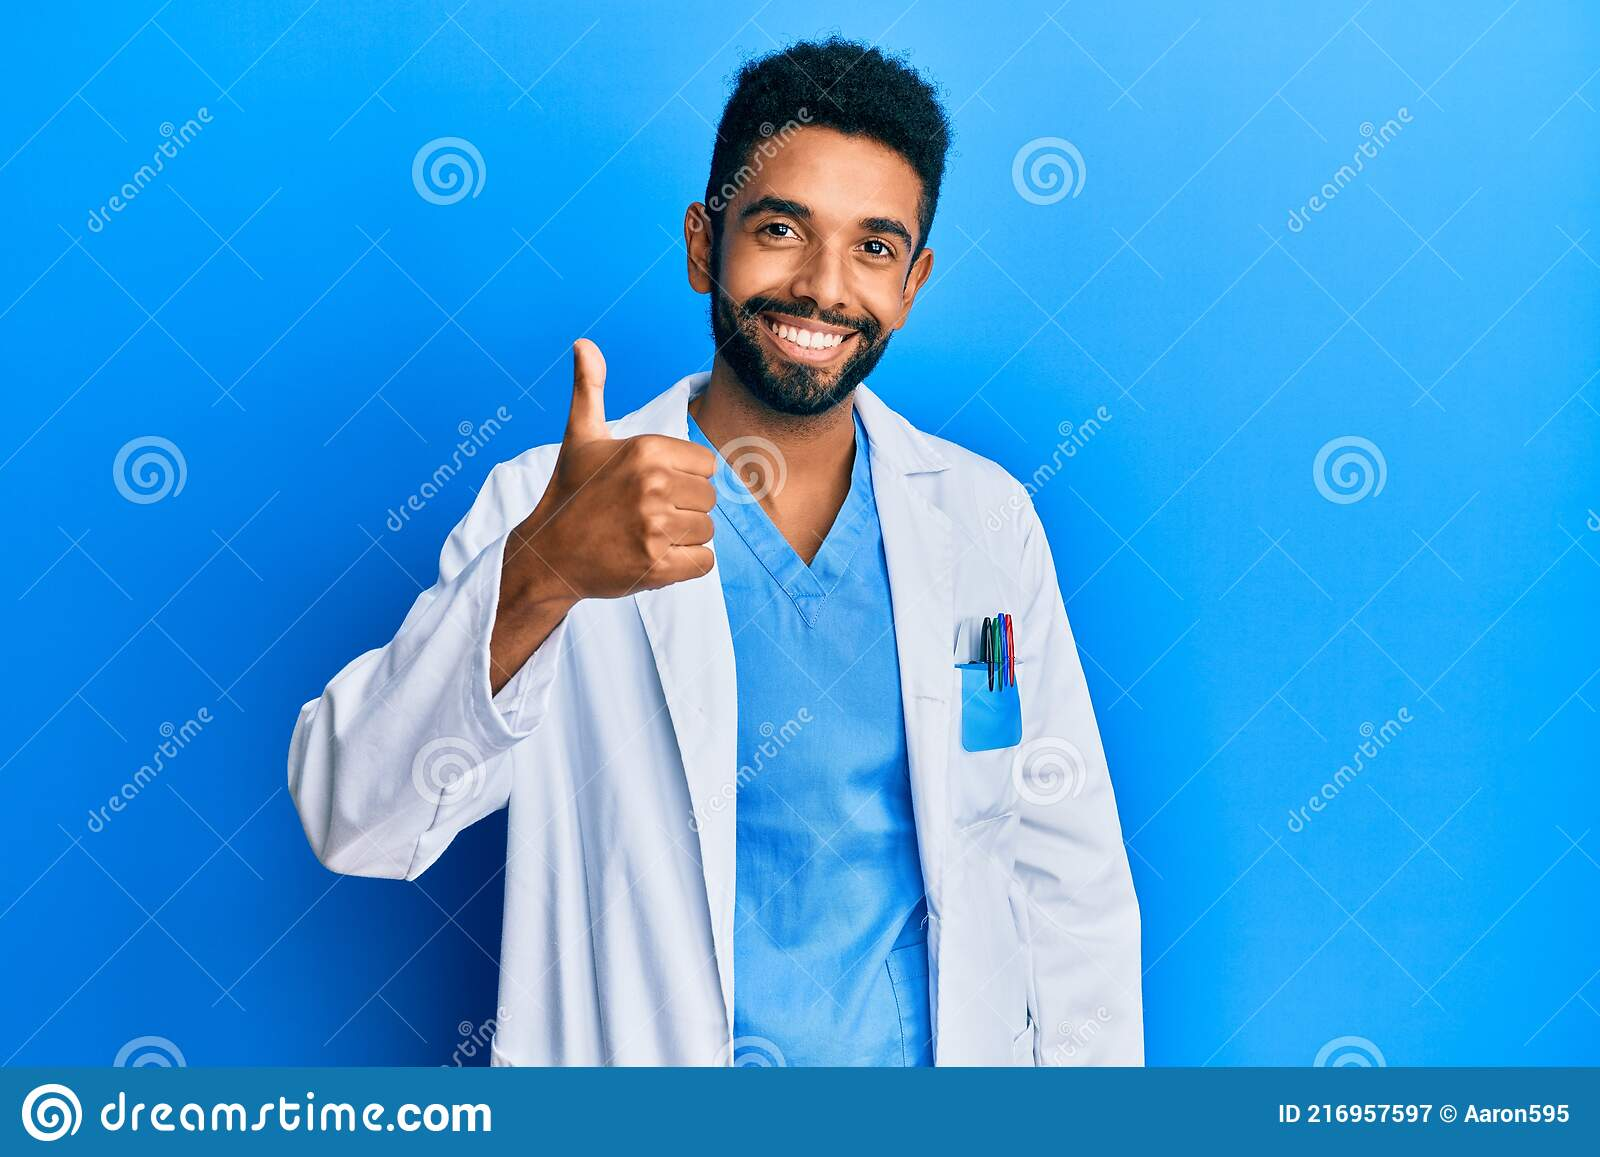thumbsUp: (520, 329, 723, 633)
